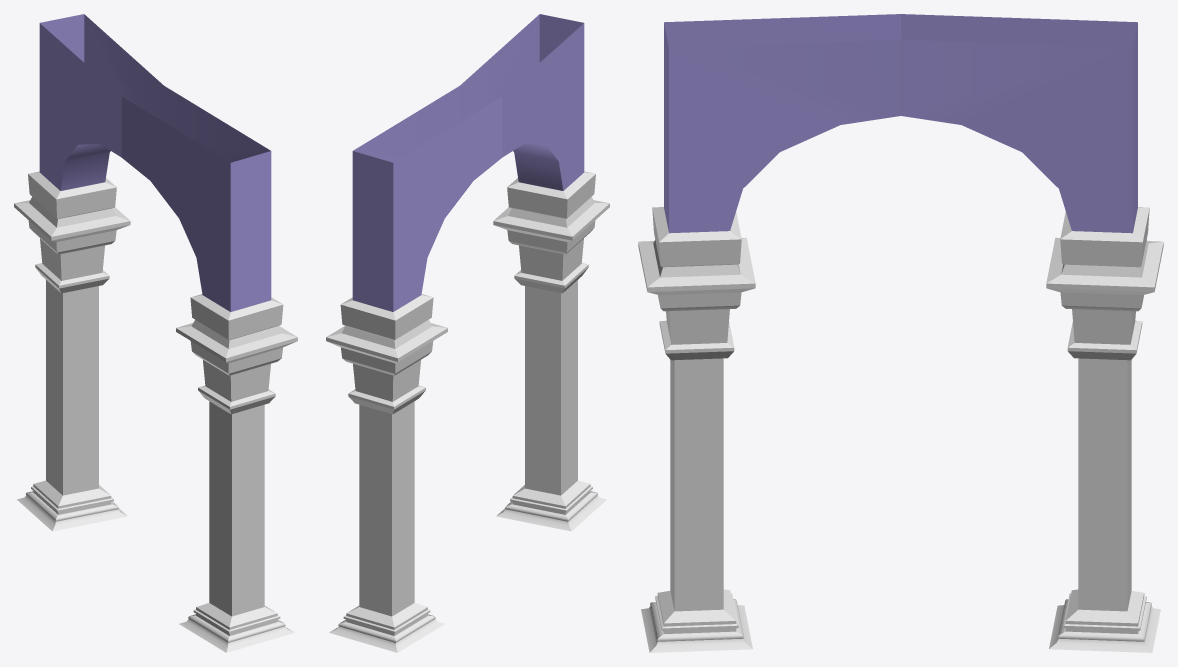
The model's file is FR L1 Gate Pillars.fbx.
The picture shows the model from 3 angles, left to right: view 1: azimuth 30°, elevation 25°; view 2: azimuth 150°, elevation 25°; view 3: azimuth 270°, elevation 25°; orthographic projection. The views are drawn at different scales.
Visible parts, largest first — view 1: Gate Pillars_LOD0; view 2: Gate Pillars_LOD0; view 3: Gate Pillars_LOD0.
Part boxes in pixels (x1=…): Gate Pillars_LOD0: x1=14, y1=14, x2=297, y2=652; Gate Pillars_LOD0: x1=326, y1=14, x2=609, y2=652; Gate Pillars_LOD0: x1=638, y1=14, x2=1163, y2=652.
Size of what is drawn, in the model's own units: 133 by 743 by 595.
